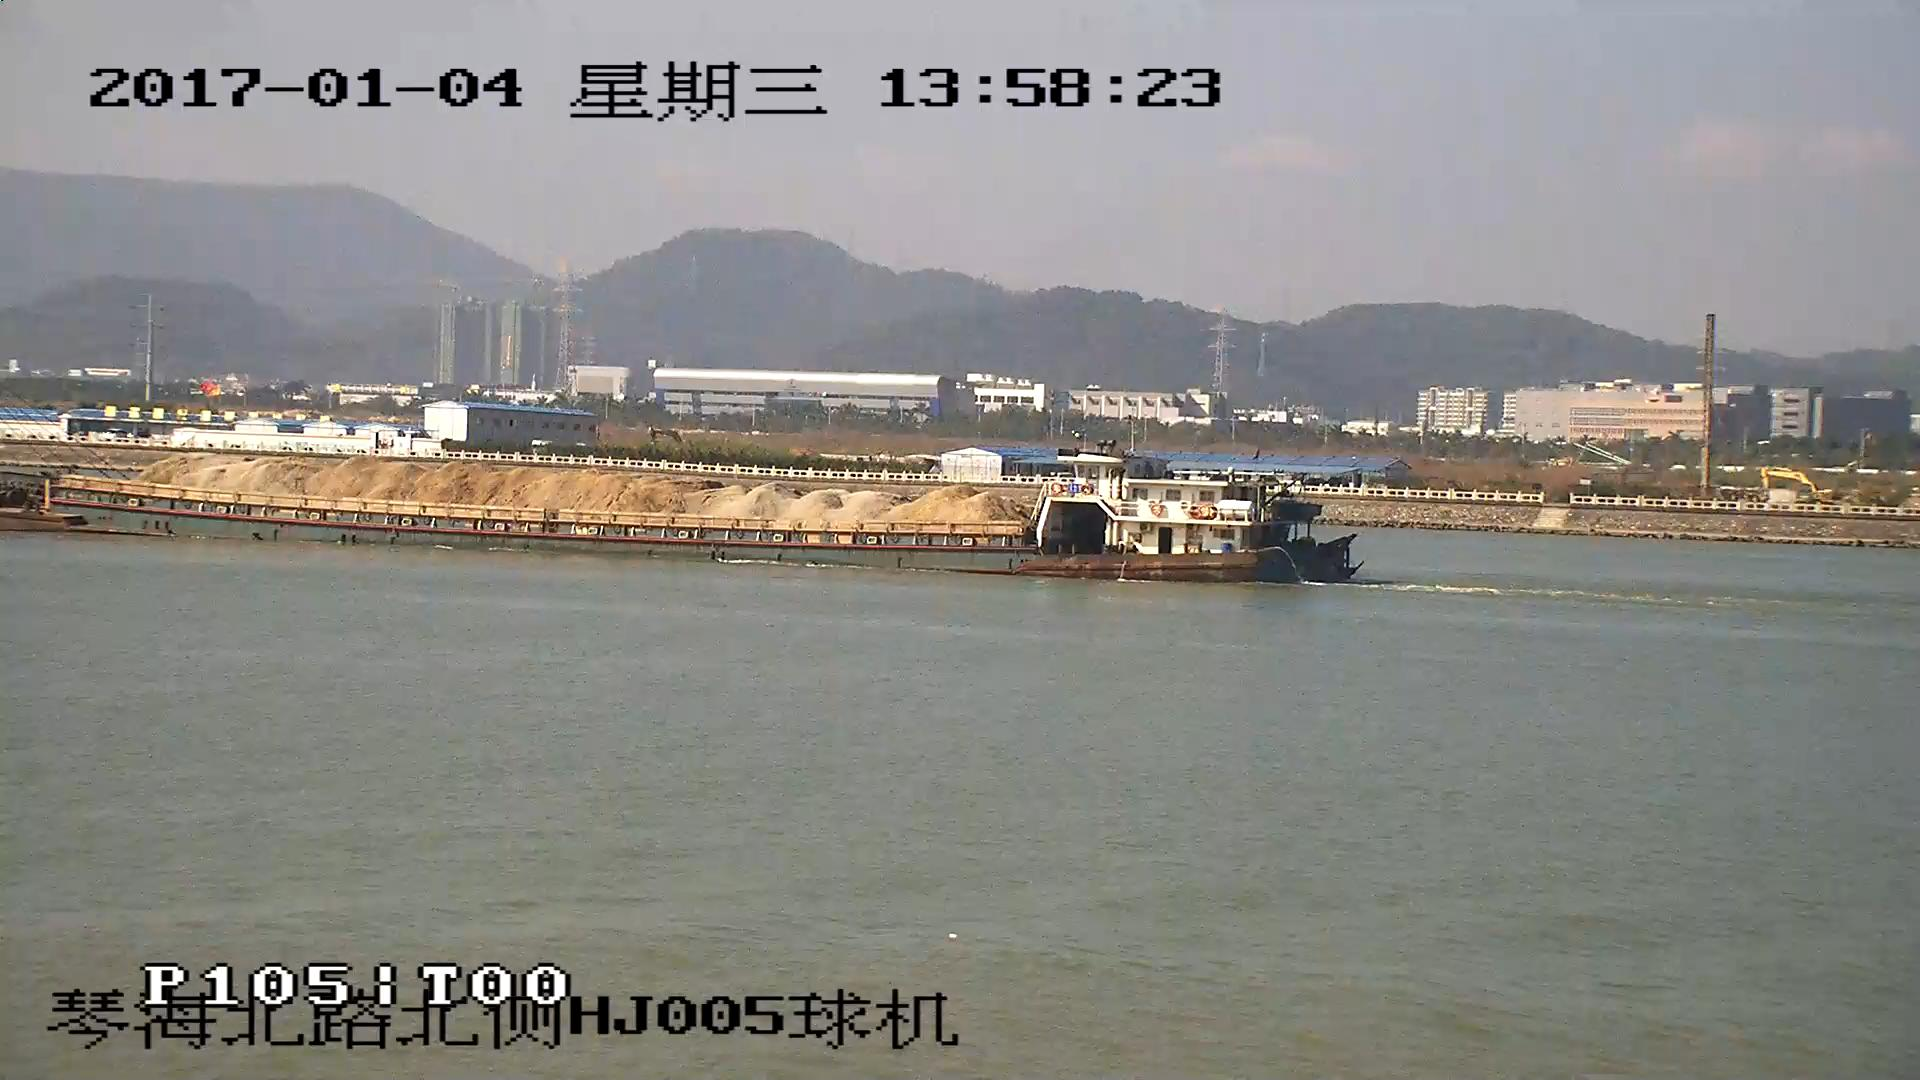ore carrier: (1, 450, 1362, 588)
